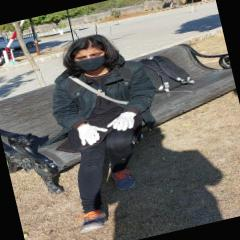gloved: (77, 118, 109, 148), (103, 110, 139, 135)
